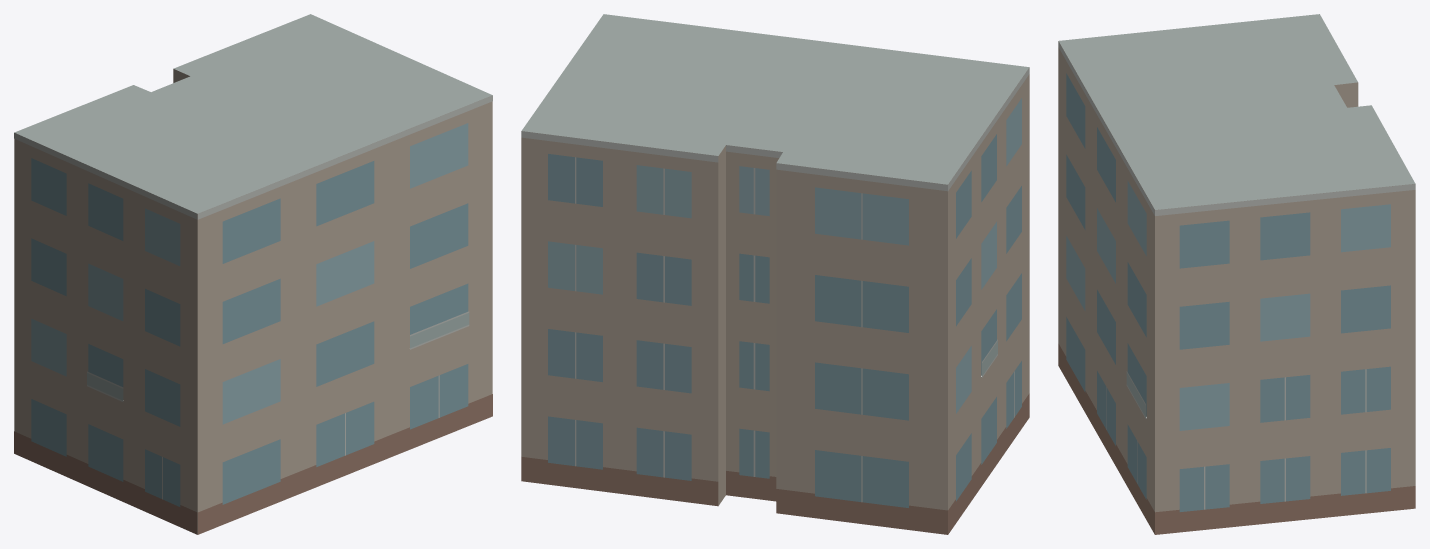
The model's file is survey-upis-32715546.glb.
The picture shows the model from 3 angles, left to right: view 1: azimuth 30°, elevation 25°; view 2: azimuth 150°, elevation 25°; view 3: azimuth 270°, elevation 25°; orthographic projection. The views are drawn at different scales.
Visible parts, largest first — view 1: survey-upis-32715546.tmp; view 2: survey-upis-32715546.tmp; view 3: survey-upis-32715546.tmp.
Part boxes in pixels (x1,y1,x2,y2): survey-upis-32715546.tmp: [14, 14, 492, 534]; survey-upis-32715546.tmp: [521, 14, 1029, 534]; survey-upis-32715546.tmp: [1058, 14, 1415, 534].
Size of the model in its own units: 16.91 by 13.05 by 13.01.
